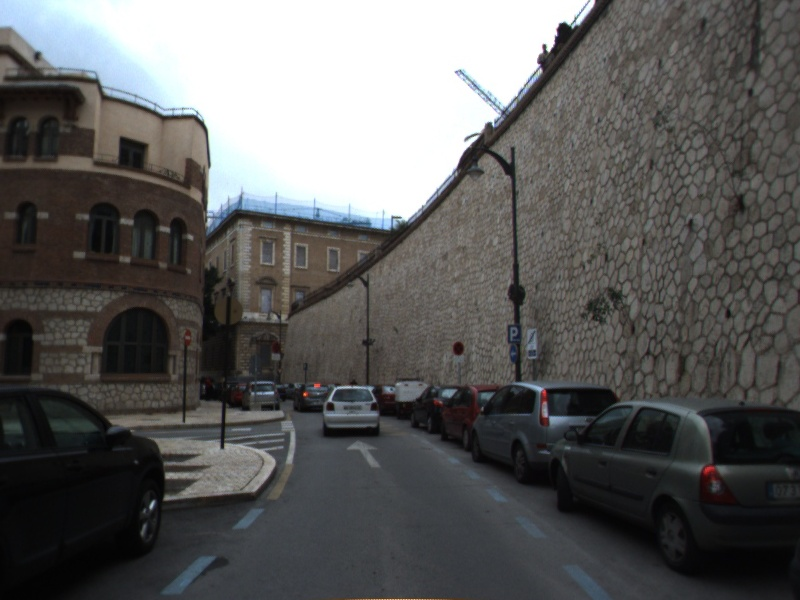STRAIGHT: (345, 438, 383, 469)
